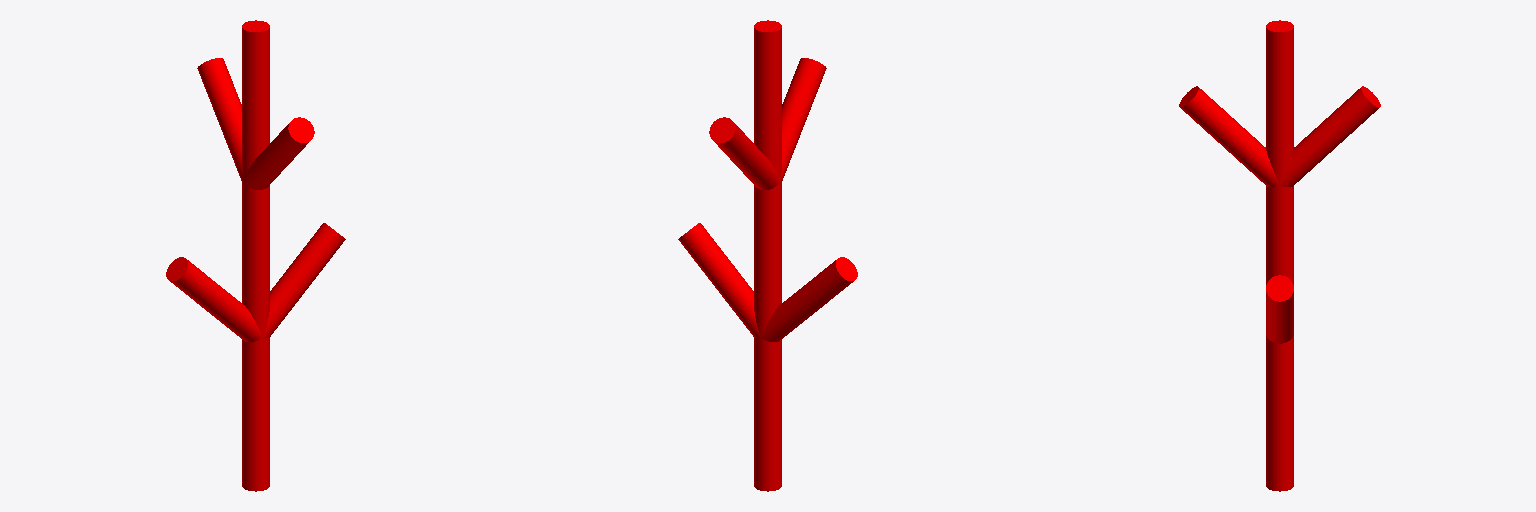
robot.urdf — tree.urdf:
<?xml version="1.0" ?>
<robot name="tree.urdf">
  <link name="baseLink">
    <inertial>
      <origin rpy="0 0 0" xyz="0 0 0"/>
       <mass value=".1"/>
       <inertia ixx="1" ixy="0" ixz="0" iyy="1" iyz="0" izz="1"/>
    </inertial>
    <visual>
      <origin rpy="0 0 0" xyz="0 0 0"/>
      <geometry>
        <mesh filename="2.stl" scale="1 1 1" />
      </geometry>
      <material name="red">
        <color rgba="1 0 0 1"/>
      </material>
    </visual>
    <collision>
      <origin rpy="0 0 0" xyz="0 0 0"/>
      <geometry>
        <mesh filename="2_convex.obj" scale="1 1 1" />
      </geometry>
    </collision>
  </link>
</robot>

--- What the picture shows (computed from the rendered views, not written in the file) ---
3 views of the same robot in one strip: view 1: azimuth 30°, elevation 25°; view 2: azimuth 150°, elevation 25°; view 3: azimuth 270°, elevation 25° (orthographic).
Robot: tree.urdf — 1 links, 0 joints (none); root link baseLink; default pose: every joint at zero.
Visible links, largest first — view 1: baseLink; view 2: baseLink; view 3: baseLink.
Link boxes in pixels (bbox=[...]): baseLink: bbox=[166, 20, 345, 491]; baseLink: bbox=[678, 20, 857, 491]; baseLink: bbox=[1179, 20, 1380, 491].
Size in the robot's own frame: 0.2143 by 0.2143 by 0.538 metres.
Meshes: 1 distinct files referenced, 1 mesh visuals loaded (1 binary STL).